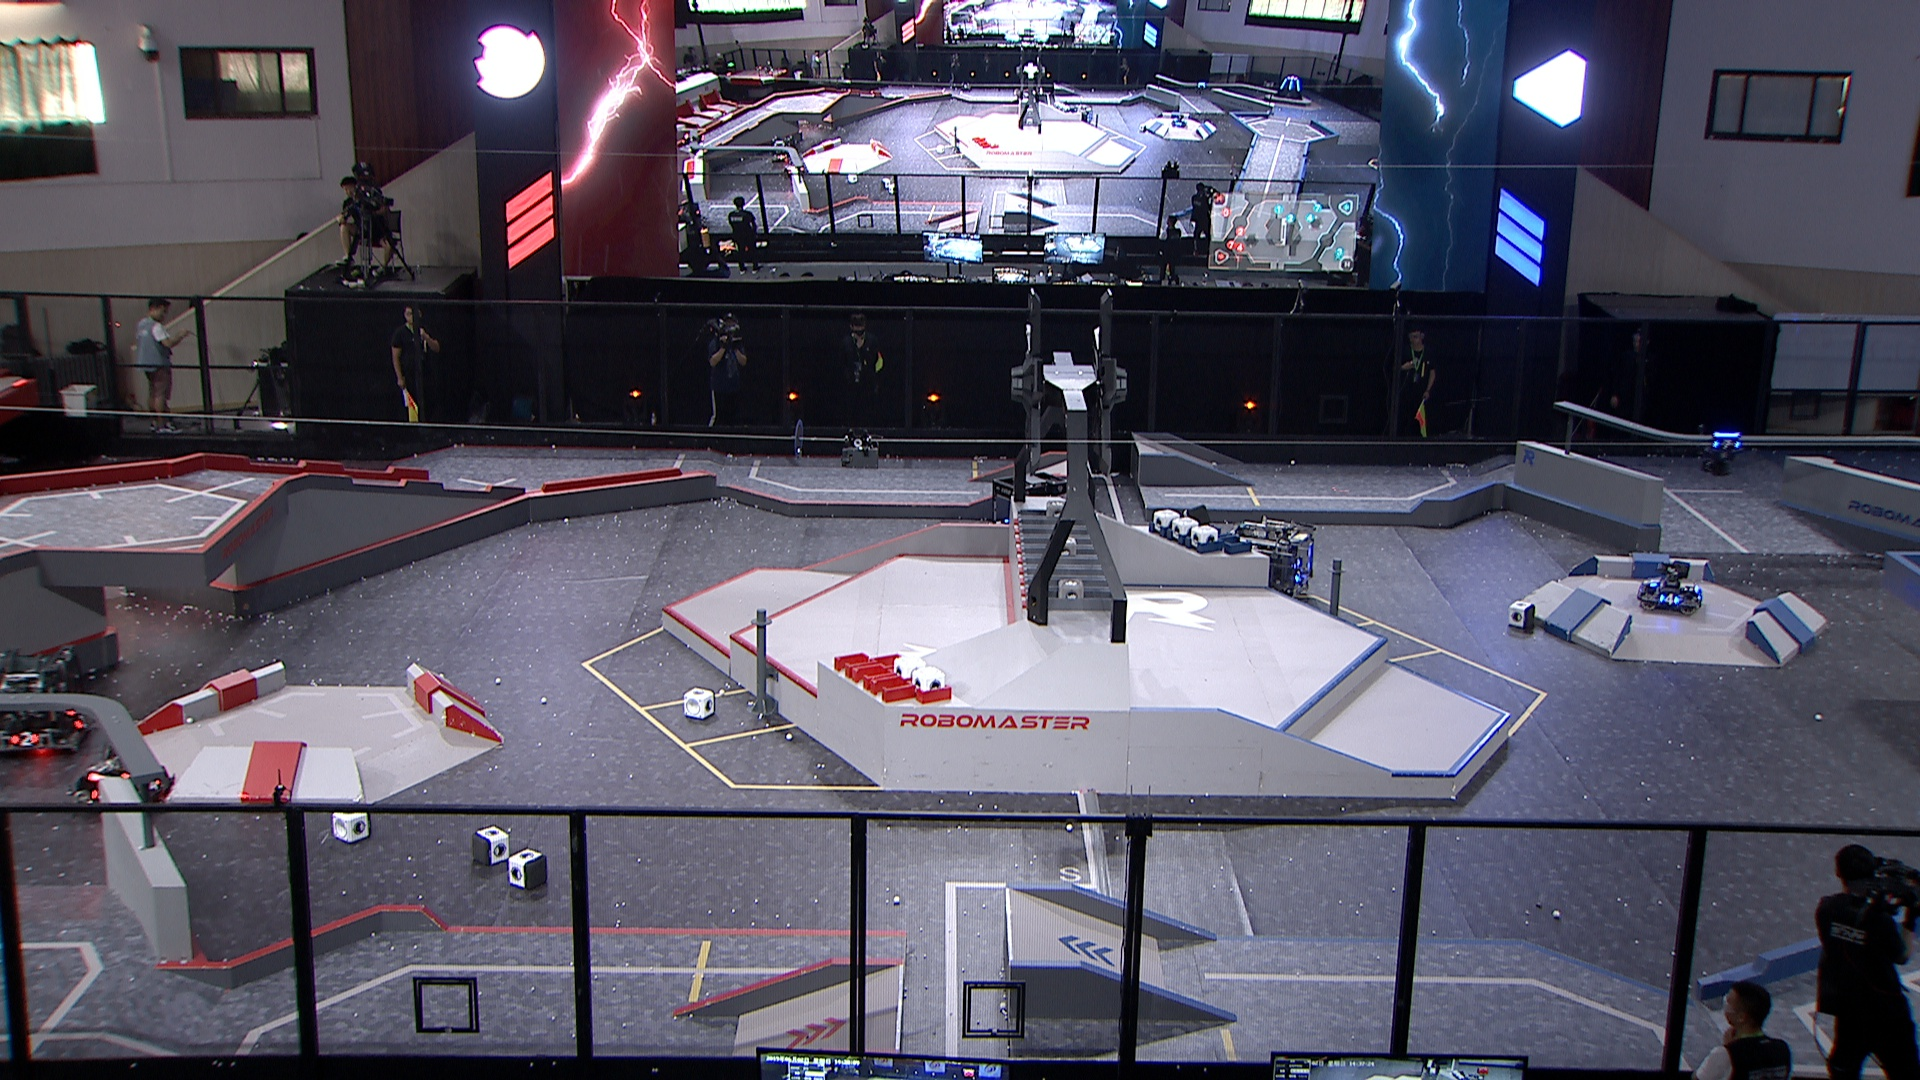armor: (8, 728, 44, 749), (1712, 438, 1742, 452), (1659, 593, 1681, 608), (74, 713, 91, 732), (146, 779, 164, 793), (1646, 576, 1662, 589), (1294, 568, 1305, 584)
car: (69, 736, 178, 823), (984, 469, 1073, 553), (1229, 516, 1317, 599), (1634, 560, 1704, 616)
ignore: (1273, 74, 1305, 102), (769, 135, 795, 164), (680, 131, 704, 156), (676, 200, 700, 224), (1072, 104, 1095, 124), (781, 164, 808, 178), (1168, 113, 1187, 129), (1195, 80, 1209, 98)
watcher: (1702, 431, 1745, 473)
